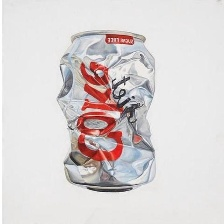can: (54, 28, 158, 192)
